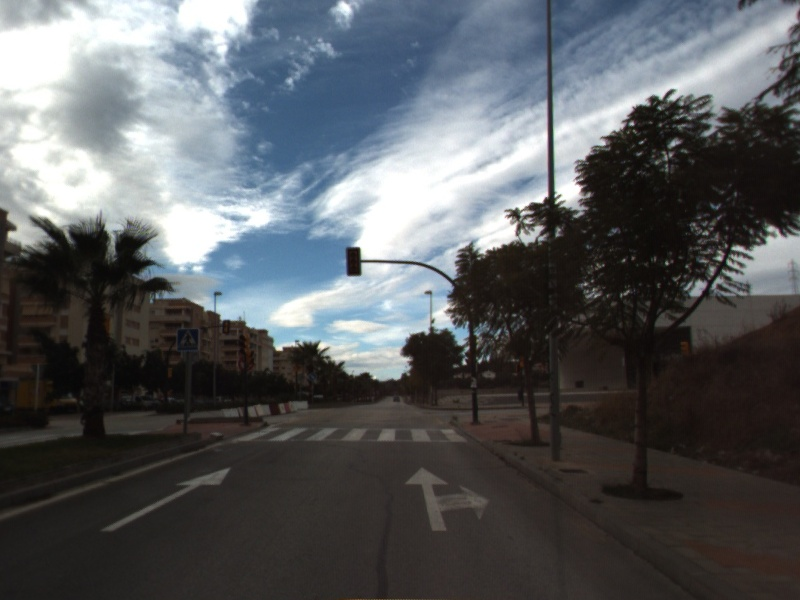STRAIGHT: (99, 465, 233, 533)
STRAIGHT_RIGHT: (403, 465, 492, 533)
